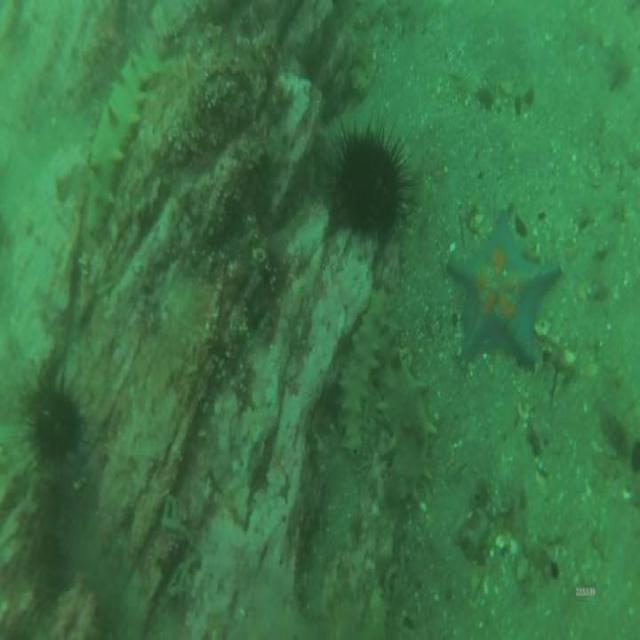echinus: (331, 128, 405, 237), (35, 382, 80, 463)
holothurian: (90, 49, 152, 221), (340, 289, 380, 443), (387, 362, 429, 507)
starfish: (447, 212, 558, 363)
